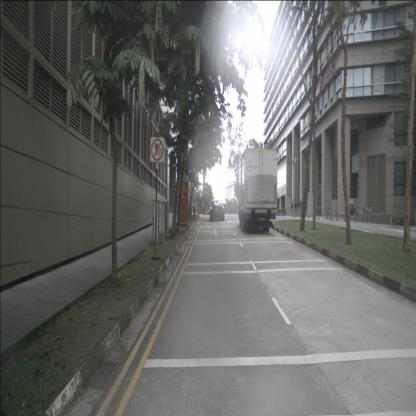vehicle-car: (210, 200, 224, 221)
vehicle-truck: (237, 149, 278, 231)
